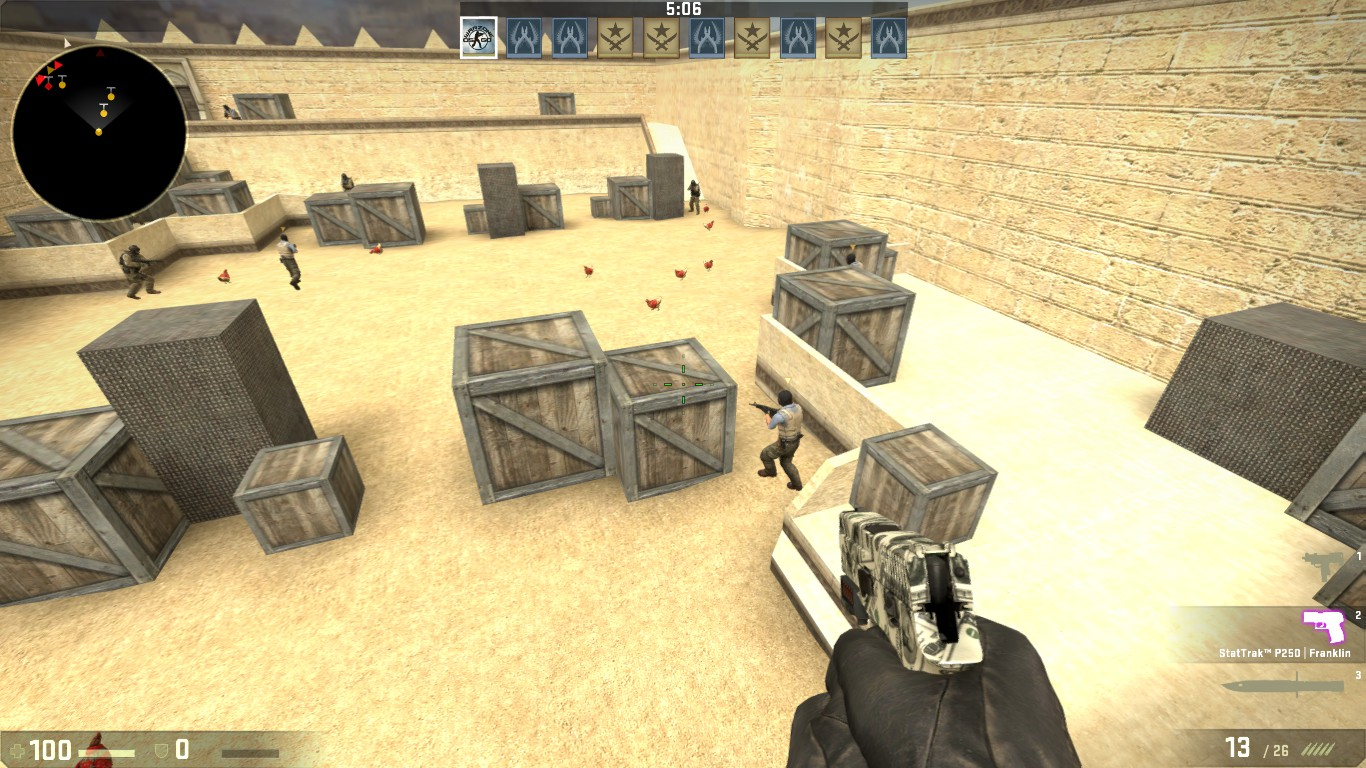c: (122, 242, 154, 299), (687, 179, 702, 215), (337, 173, 357, 193)
ch: (127, 244, 142, 255), (342, 173, 349, 180)
t: (757, 388, 807, 486), (275, 234, 307, 290), (220, 104, 240, 120)
th: (773, 389, 795, 410), (280, 233, 289, 244)
